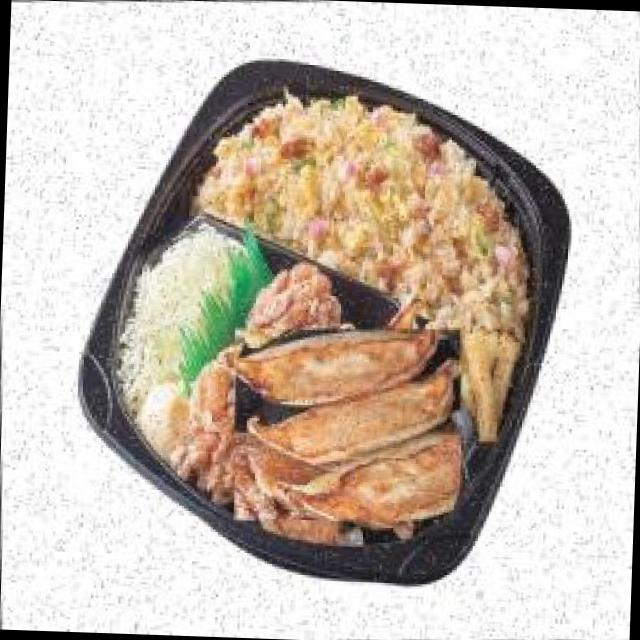fried_dumplings: (235, 312, 458, 534)
